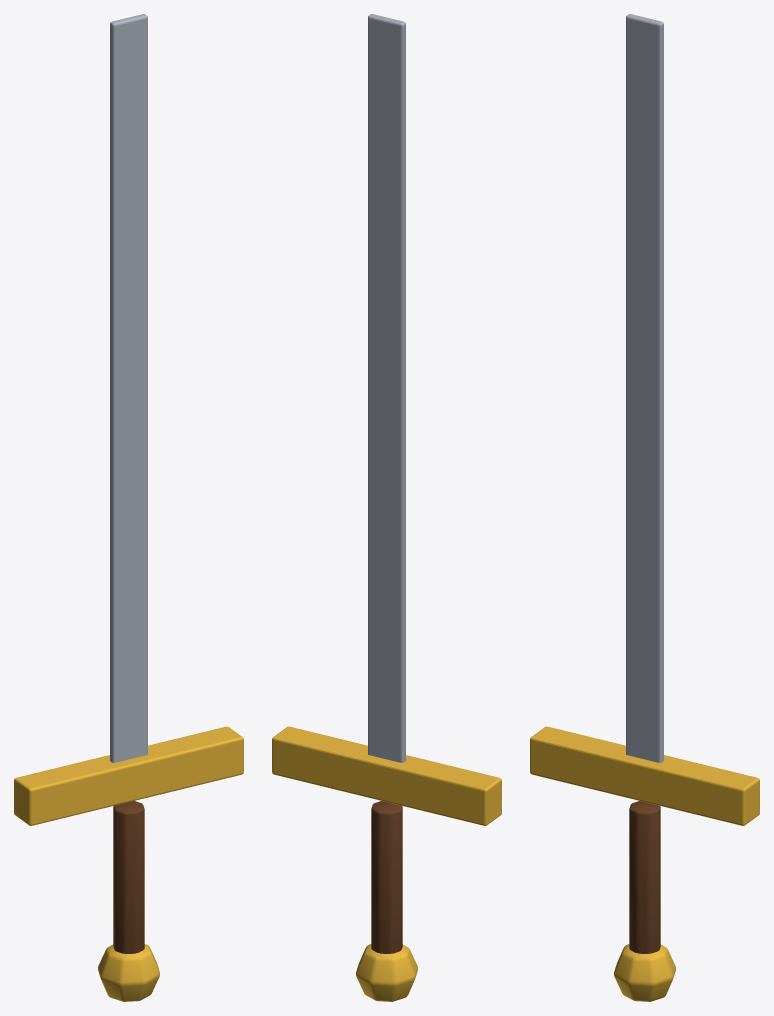
The model's file is sword.glb.
3 renders of one model, left to right at view 1: azimuth 30°, elevation 25°; view 2: azimuth 150°, elevation 25°; view 3: azimuth 330°, elevation 25°, orthographic.
Parts seen in each view (by area): view 1: sword; view 2: sword; view 3: sword.
Boxes of the visible parts, box(x1,y1,x2,y2) form: sword: box(14, 14, 243, 1001); sword: box(272, 14, 501, 1001); sword: box(530, 14, 759, 1001).
Size of the model in its own units: 0.3 by 1.31 by 0.0769.
